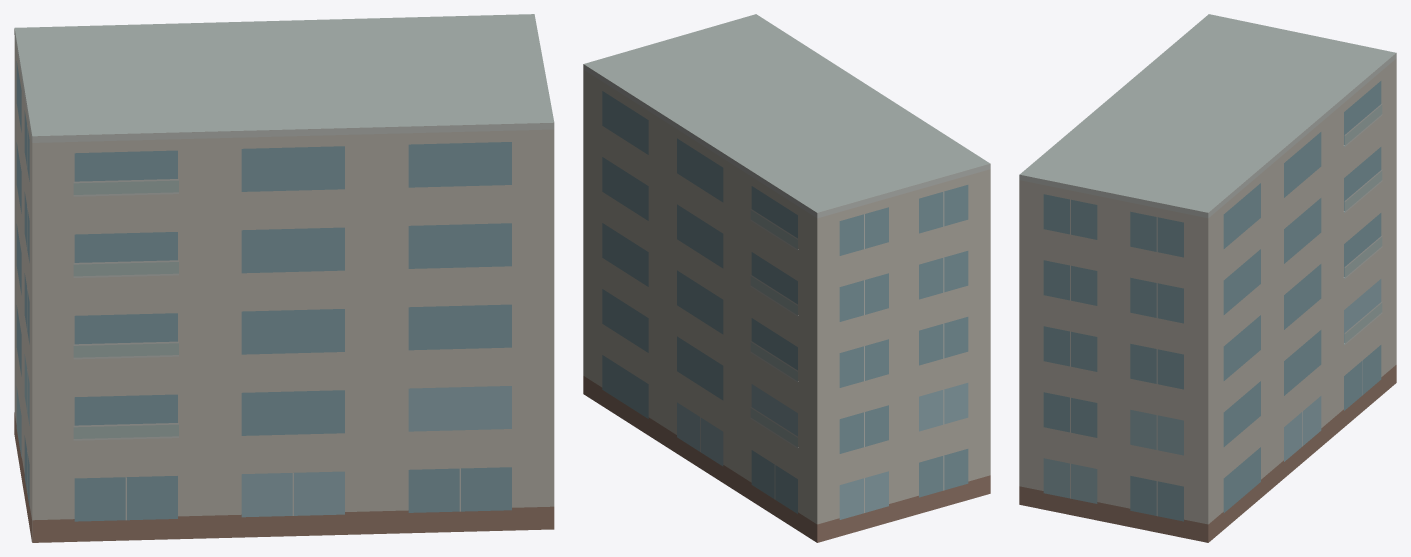
The model's file is survey-upis-32891617.glb.
3 views of the same model, side by side, from view 1: azimuth 30°, elevation 25°; view 2: azimuth 150°, elevation 25°; view 3: azimuth 270°, elevation 25° (orthographic). The views are drawn at different scales.
Visible parts, largest first — view 1: survey-upis-32891617.tmp; view 2: survey-upis-32891617.tmp; view 3: survey-upis-32891617.tmp.
Boxes of the visible parts, x1,y1,x2,y2 form: survey-upis-32891617.tmp: [14, 14, 554, 542]; survey-upis-32891617.tmp: [583, 14, 990, 542]; survey-upis-32891617.tmp: [1019, 14, 1396, 542].
Size of the model in its own units: 19 by 14.7 by 15.23.
